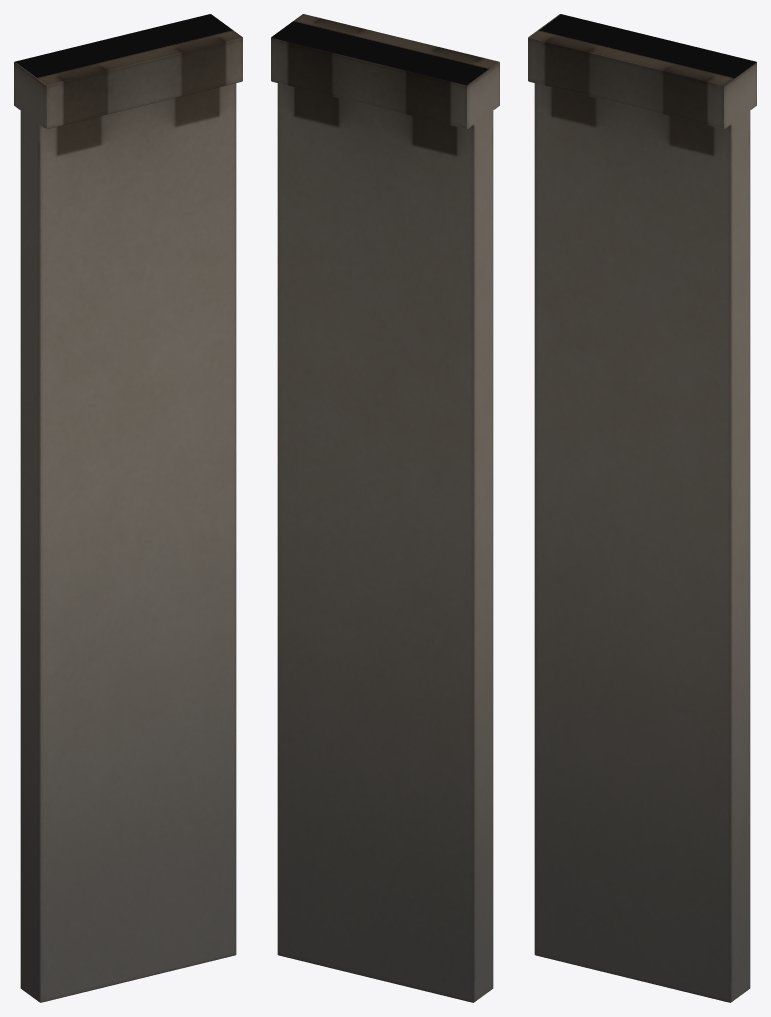
The model's file is short_beam_pillar.obj.
The picture shows the model from 3 angles, left to right: view 1: azimuth 30°, elevation 25°; view 2: azimuth 150°, elevation 25°; view 3: azimuth 330°, elevation 25°; orthographic projection.
Parts seen in each view (by area): view 1: short_beam_pillar; view 2: short_beam_pillar; view 3: short_beam_pillar.
Part boxes in pixels (<box>): short_beam_pillar: <box>14,14,242,1002</box>; short_beam_pillar: <box>271,14,499,1002</box>; short_beam_pillar: <box>528,14,756,1002</box>.
Bounding box in the file's own units: 2.19 × 9.78 × 0.625.
1 material, 1 textured.
